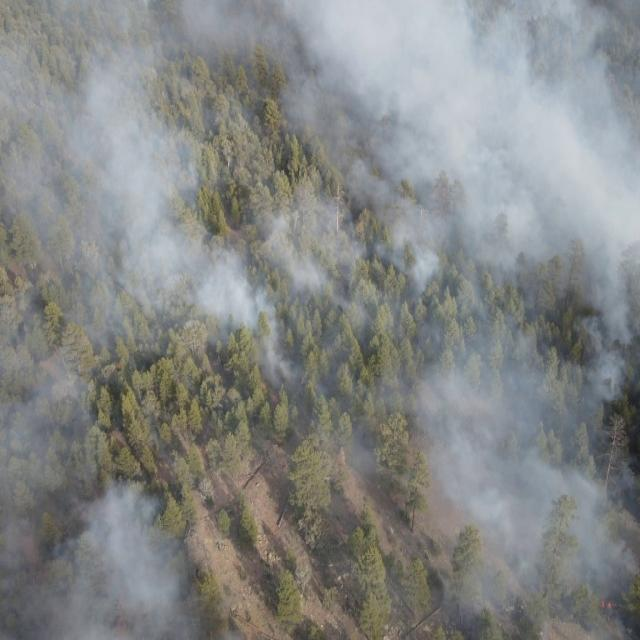fire: (598, 599, 618, 613), (111, 361, 124, 372)
smoke: (0, 1, 640, 309), (300, 302, 640, 506), (0, 309, 191, 640), (400, 507, 640, 640), (198, 308, 320, 388)
